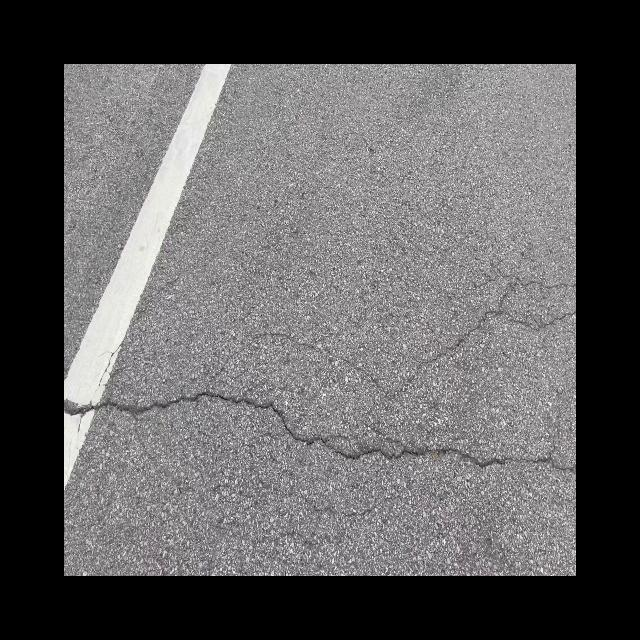retak_memanjang: (64, 370, 576, 509), (221, 265, 576, 392)
